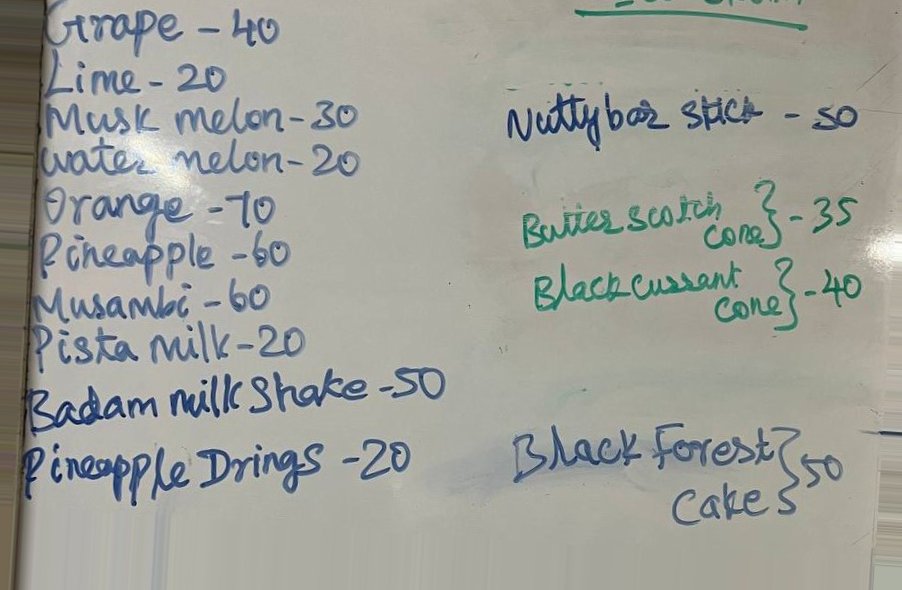badam milkshake - 50: (26, 368, 450, 437)
black current cone - 40: (531, 255, 861, 333)
black forest cake - 50: (509, 418, 849, 530)
butterscotch cone - 35: (518, 176, 864, 252)
grape - 40: (42, 1, 286, 56)
lime - 20: (40, 48, 232, 99)
musambi - 60: (30, 274, 275, 326)
musk melon - 30: (43, 95, 362, 142)
nutty bar - 30: (502, 86, 873, 148)
orange - 70: (42, 185, 288, 229)
pineapple - 60: (35, 228, 300, 280)
pineapple drink - 20: (21, 433, 423, 501)
pista milk - 20: (29, 320, 311, 376)
water melon - 20: (35, 139, 364, 179)
